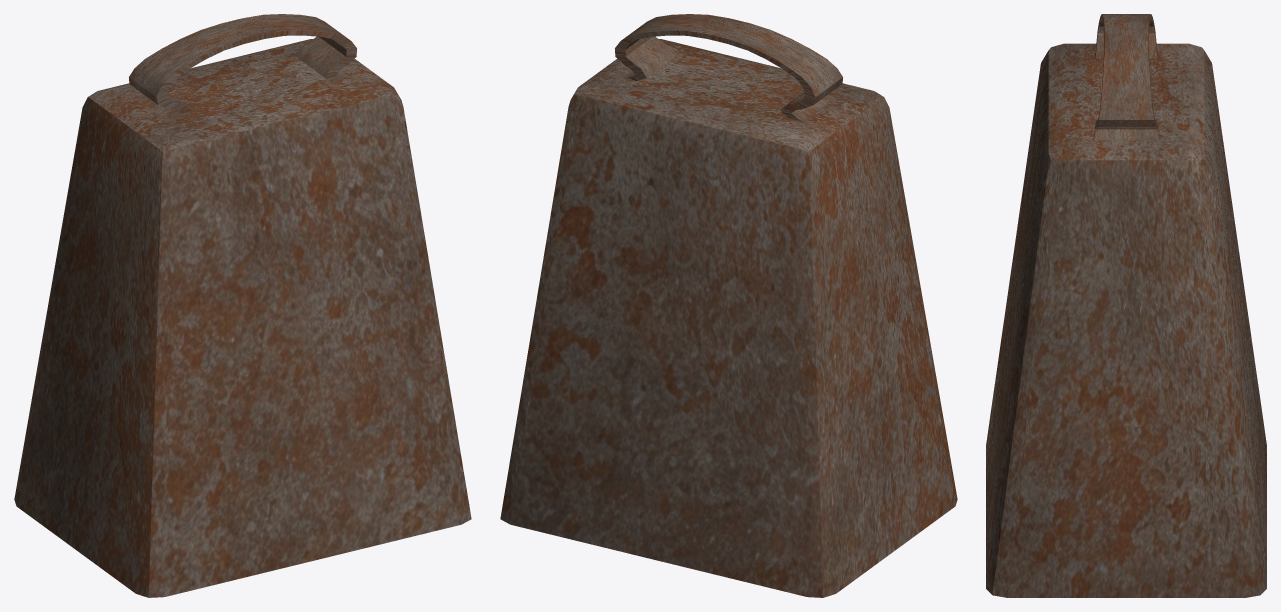
Rendered from scp513.fbx.
3 renders of one model, left to right at view 1: azimuth 30°, elevation 25°; view 2: azimuth 150°, elevation 25°; view 3: azimuth 270°, elevation 25°, orthographic.
Parts seen in each view (by area): view 1: bell; view 2: bell; view 3: bell.
Boxes of the visible parts, x1,y1,x2,y2 form: bell: (14,14,471,597); bell: (500,14,957,597); bell: (986,14,1266,597).
Bounding box in the file's own units: 185 × 255 × 135.
1 material, 1 textured.
